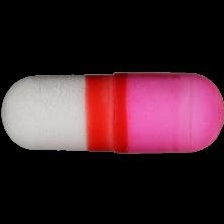54868-0026: (0, 0, 224, 224)
